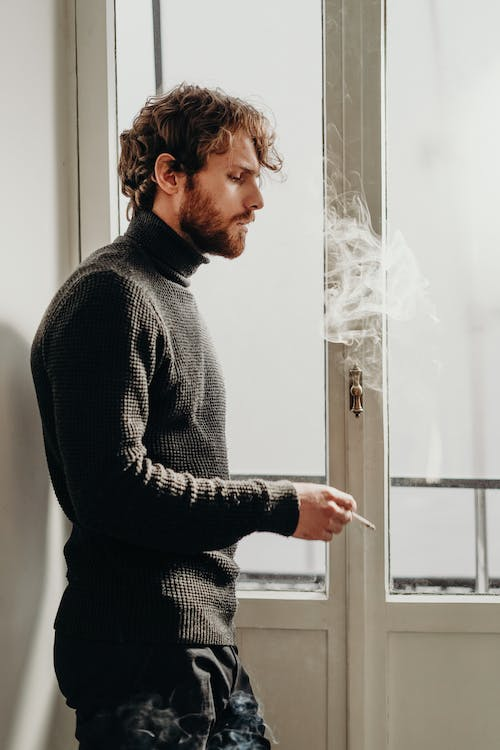cigarette: (349, 512, 377, 534)
